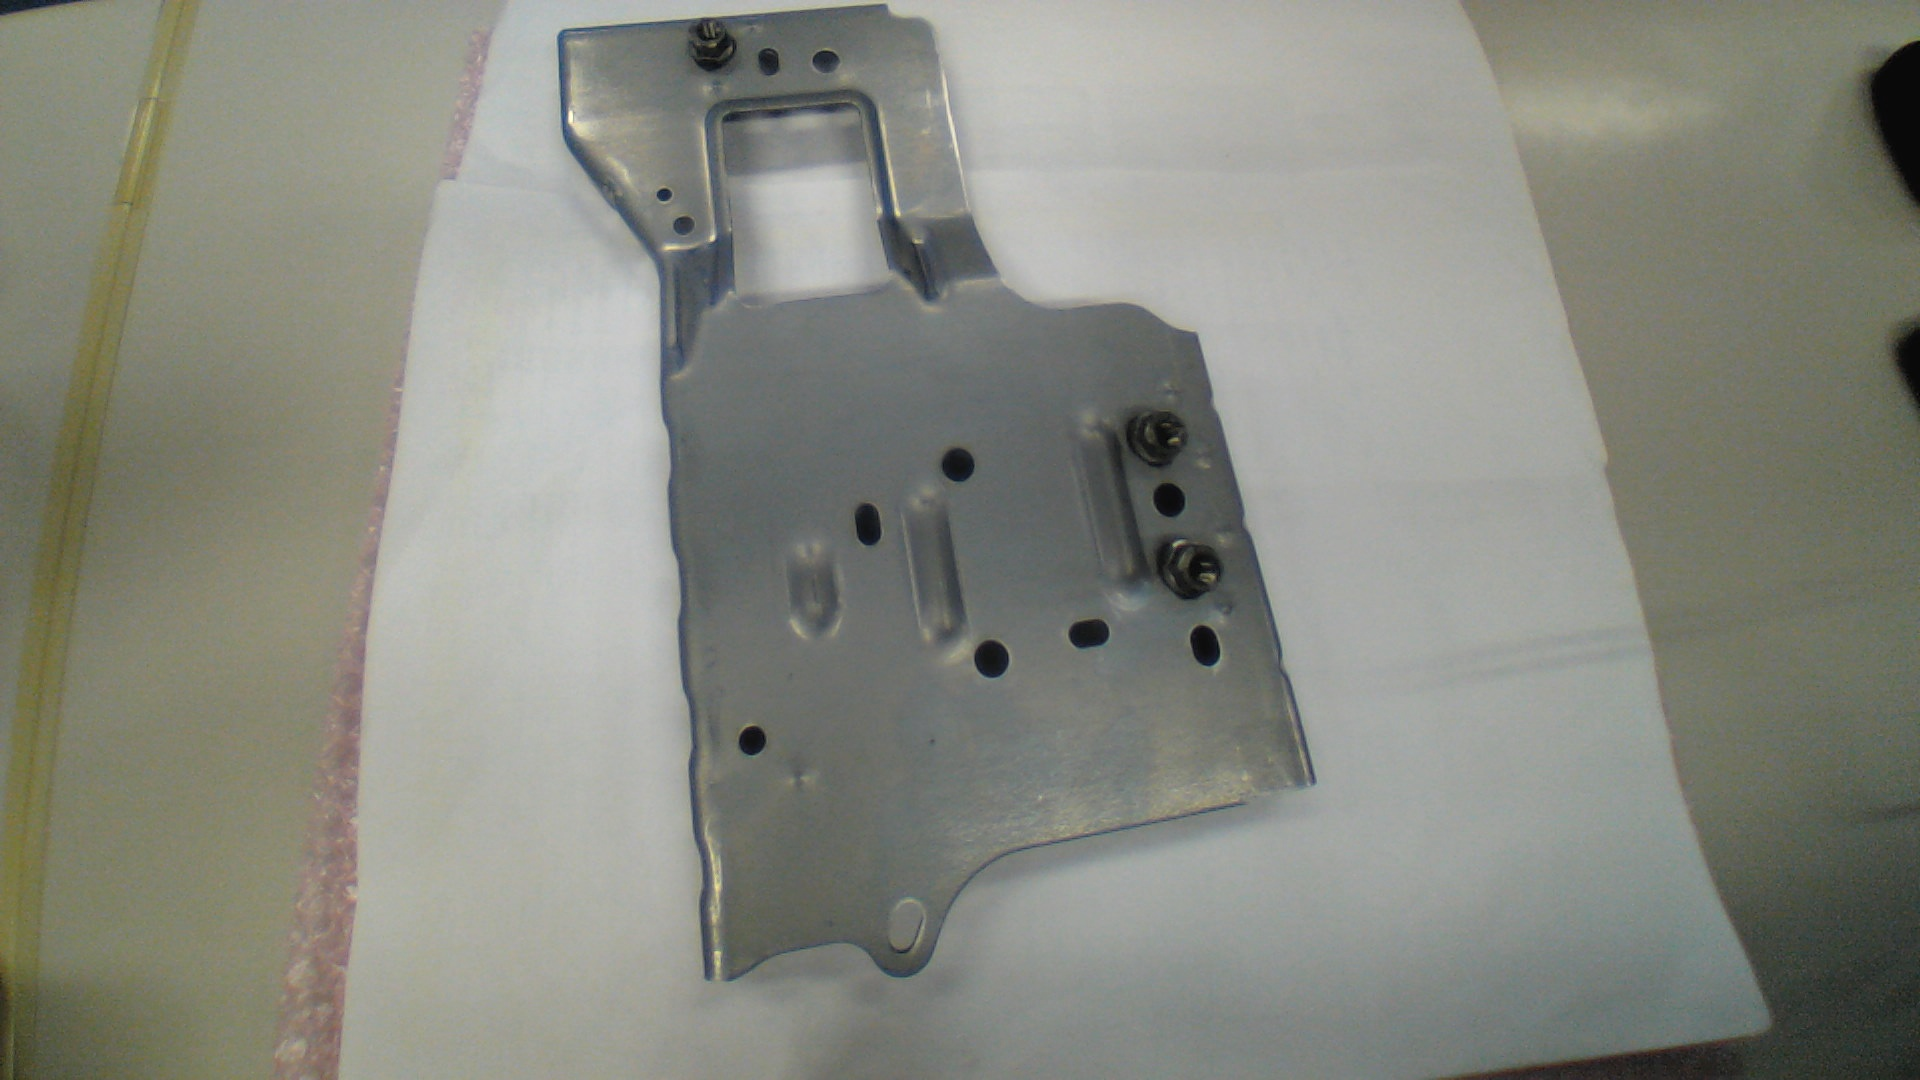dog: (1156, 537, 1222, 601), (1126, 407, 1191, 467), (688, 18, 735, 69)
